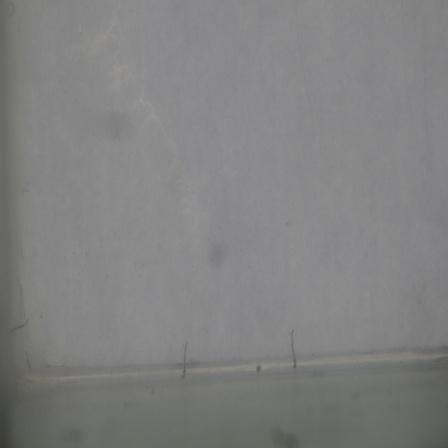Jentik-Nyamuk: (287, 324, 301, 373), (175, 342, 193, 379)
